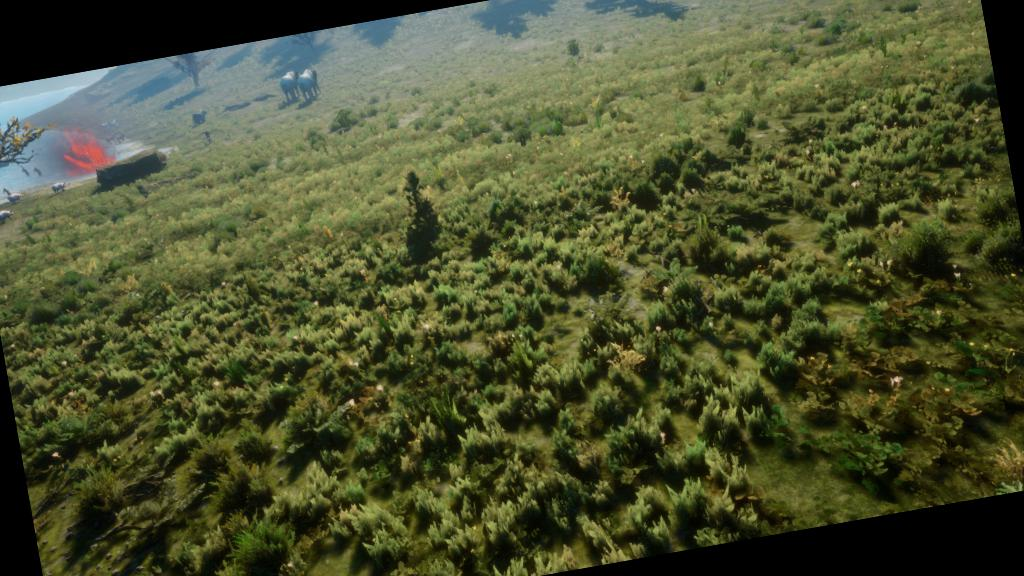Fire: (56, 121, 120, 177)
elephant: (276, 64, 306, 105), (295, 64, 324, 101)
hippopotamus: (188, 106, 213, 126)
human: (200, 126, 216, 148), (31, 162, 46, 182), (18, 162, 32, 180), (2, 184, 12, 196)
lion: (104, 132, 117, 146), (114, 132, 130, 142)
pig: (47, 181, 69, 197), (4, 190, 26, 204), (0, 207, 15, 226)
smoke: (42, 119, 120, 182)
zebra: (98, 119, 114, 131), (106, 117, 120, 130)
